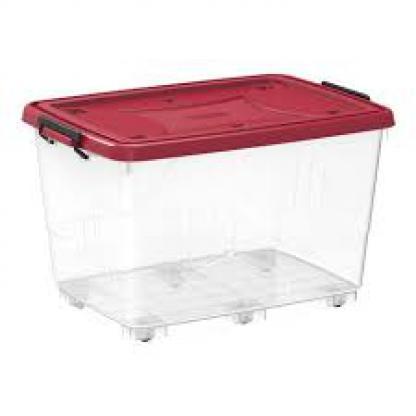plastic_box: (6, 44, 396, 346)
